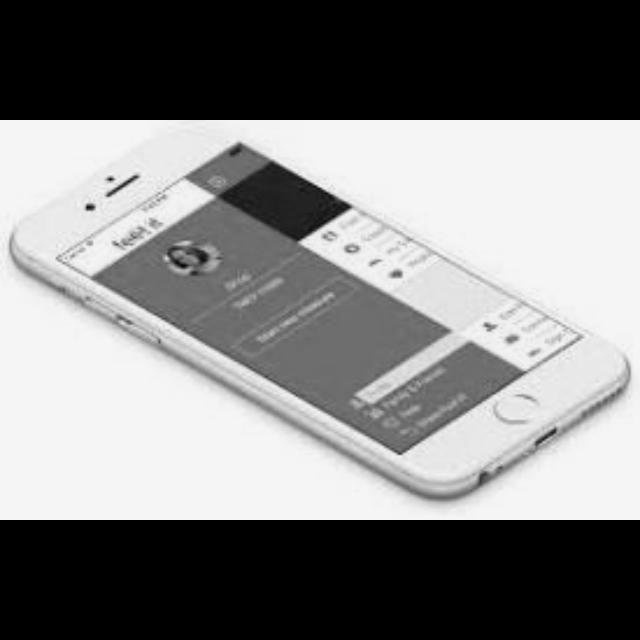fake: (2, 134, 640, 504)
